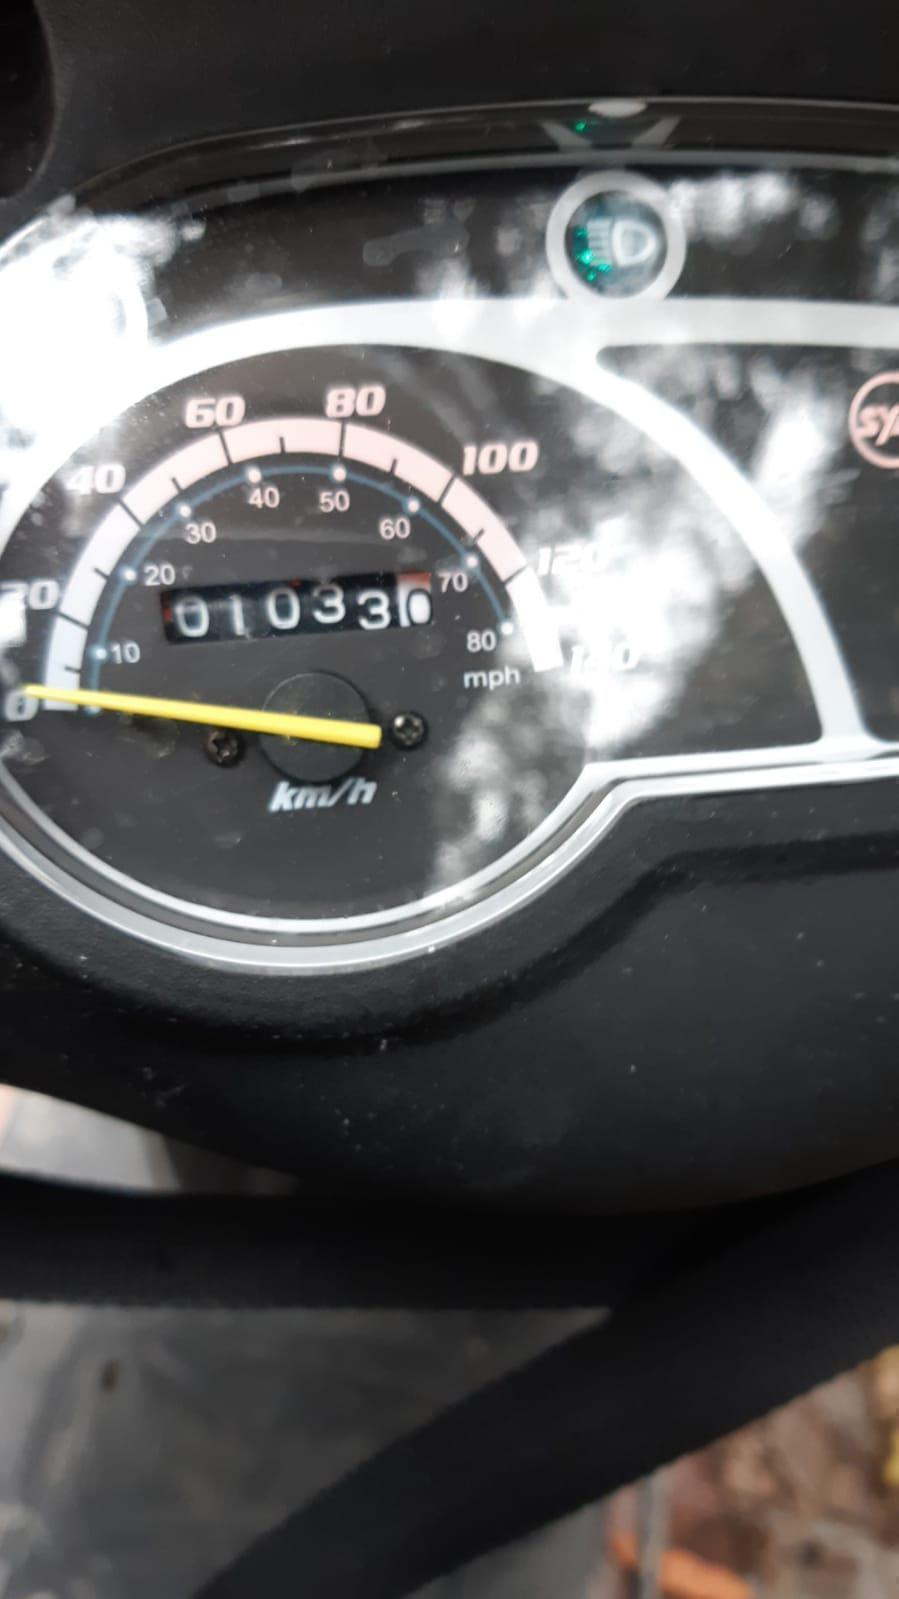0: (173, 592, 210, 639), (265, 584, 301, 630), (405, 588, 434, 626), (160, 562, 175, 585)
1: (227, 592, 246, 637)
3: (356, 589, 391, 631), (311, 583, 346, 624)
odometer: (157, 569, 437, 648)
